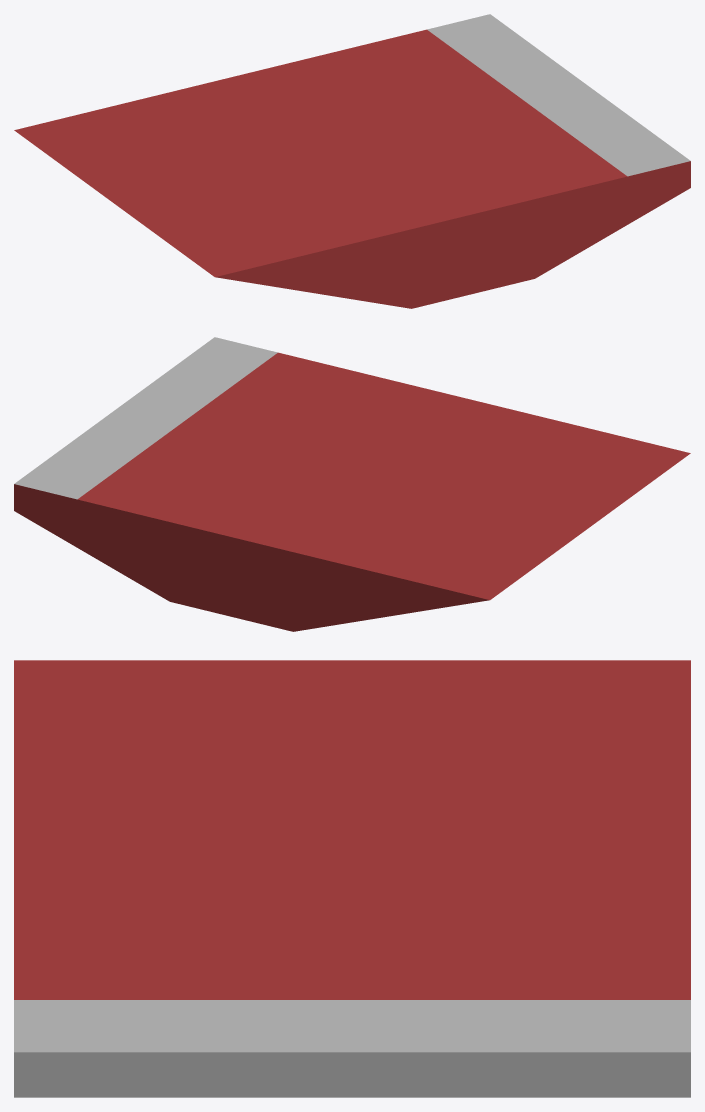
The model's file is SM_Platform_01.fbx.
The picture shows the model from 3 angles, top to bottom: view 1: azimuth 30°, elevation 25°; view 2: azimuth 150°, elevation 25°; view 3: azimuth 270°, elevation 25°; orthographic projection. The views are drawn at different scales.
Parts seen in each view (by area): view 1: SM_Platform_01; view 2: SM_Platform_01; view 3: SM_Platform_01.
Part boxes in pixels (box(x1,y1,x2,y2)): SM_Platform_01: box(14, 14, 690, 308); SM_Platform_01: box(14, 337, 690, 631); SM_Platform_01: box(14, 660, 690, 1097).
Size of the model in its own units: 1096 by 175 by 800.
